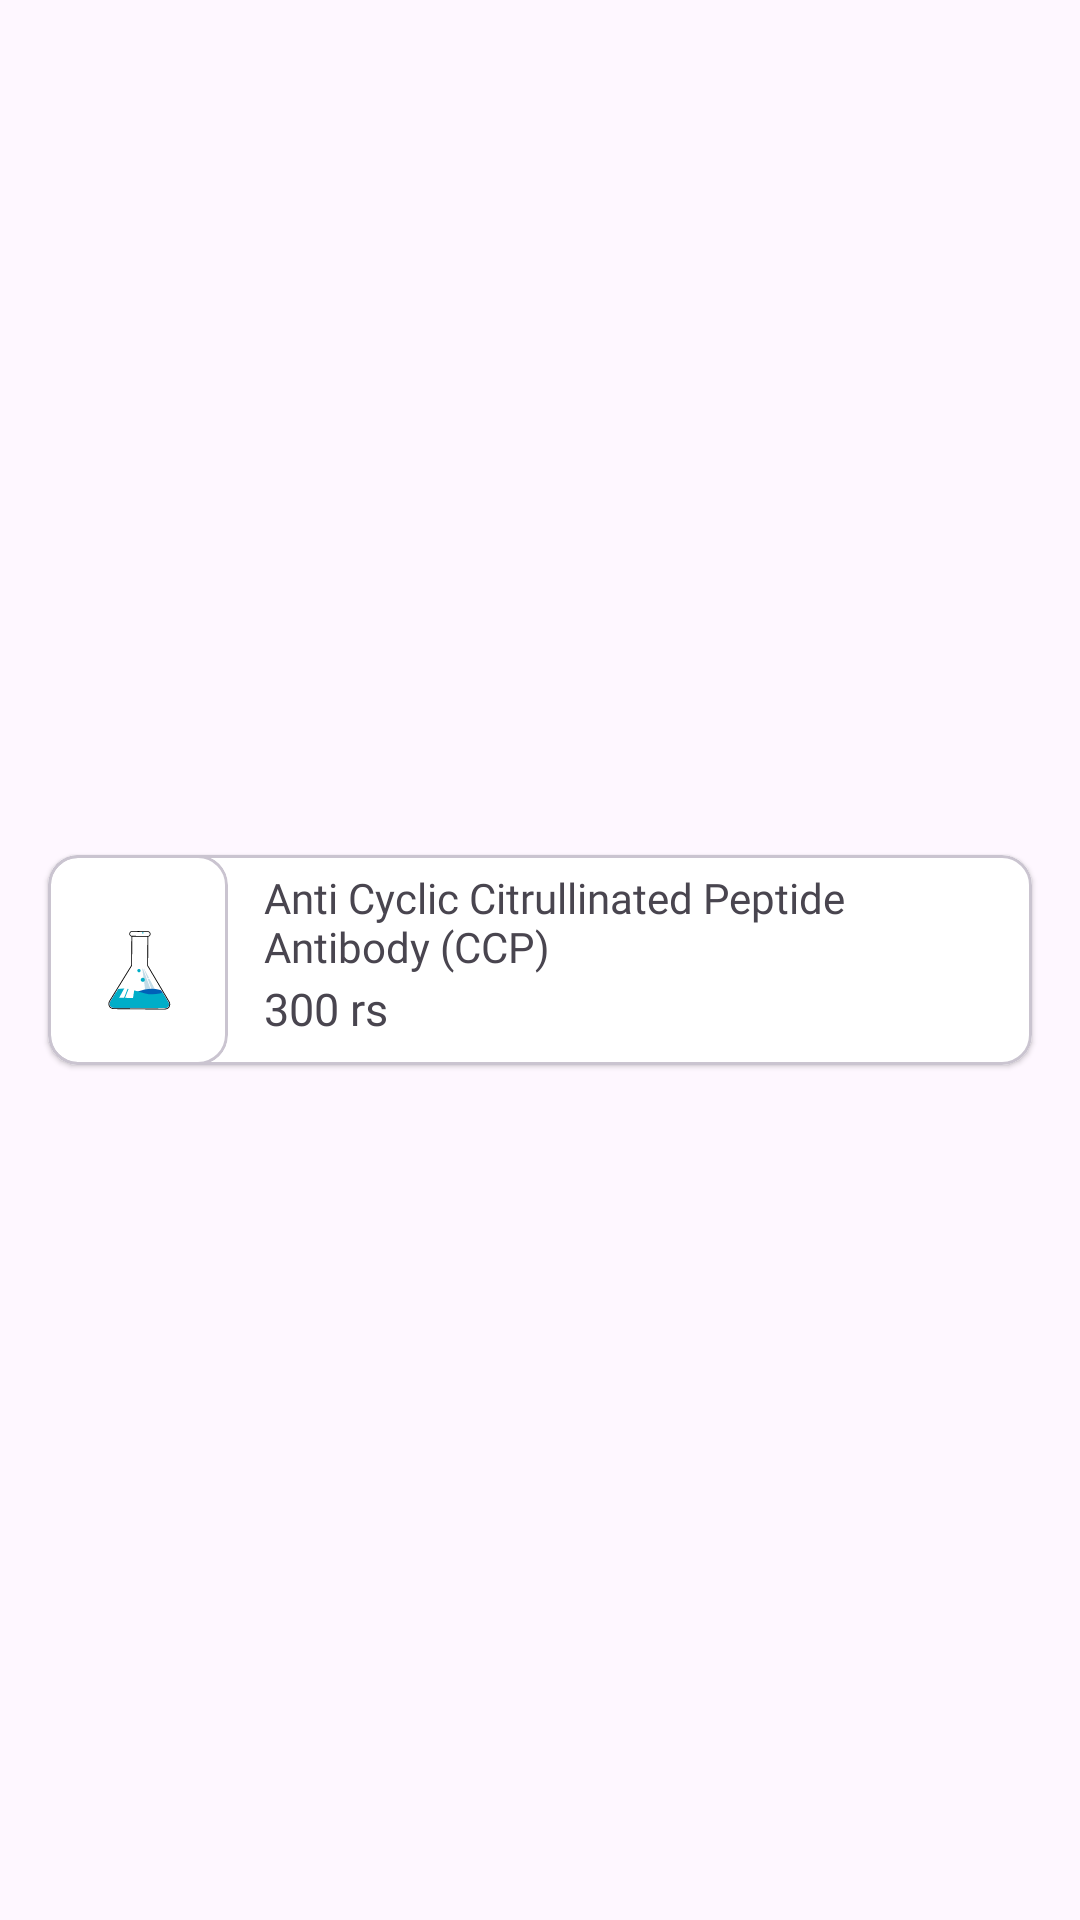

Where to tap for icons on this 1080px×1920px app screen, as point (x, y):
beaker colourful: point (139, 970)
